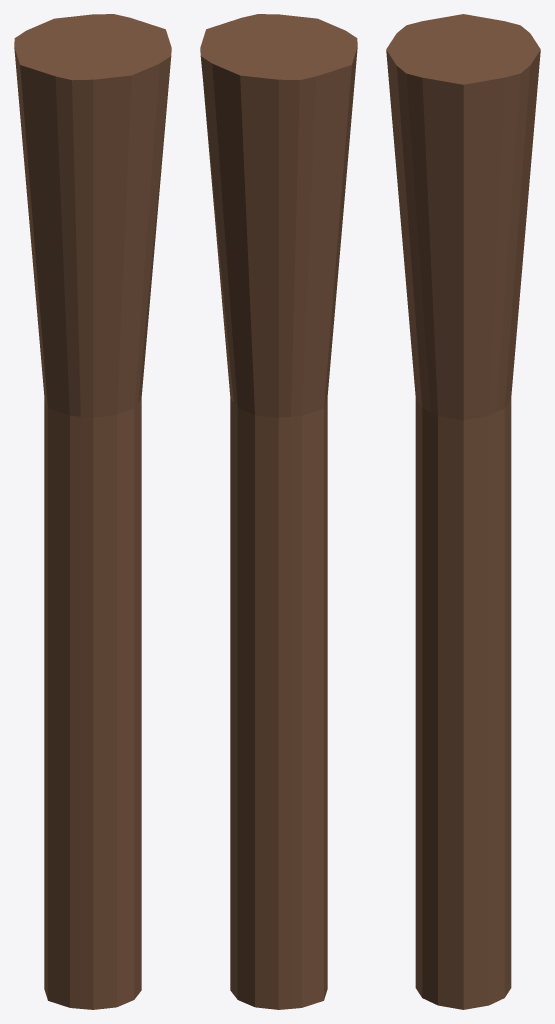
File: wooden_torch.glb
3 renders of one model, left to right at view 1: azimuth 30°, elevation 25°; view 2: azimuth 150°, elevation 25°; view 3: azimuth 270°, elevation 25°, orthographic.
Visible parts, largest first — view 1: Torch; view 2: Torch; view 3: Torch.
Boxes of the visible parts, <box> form: Torch: <box>14,14,171,1009</box>; Torch: <box>200,14,357,1009</box>; Torch: <box>386,14,540,1009</box>.
Size of the model in its own units: 0.0892 by 0.5511 by 0.0823.
